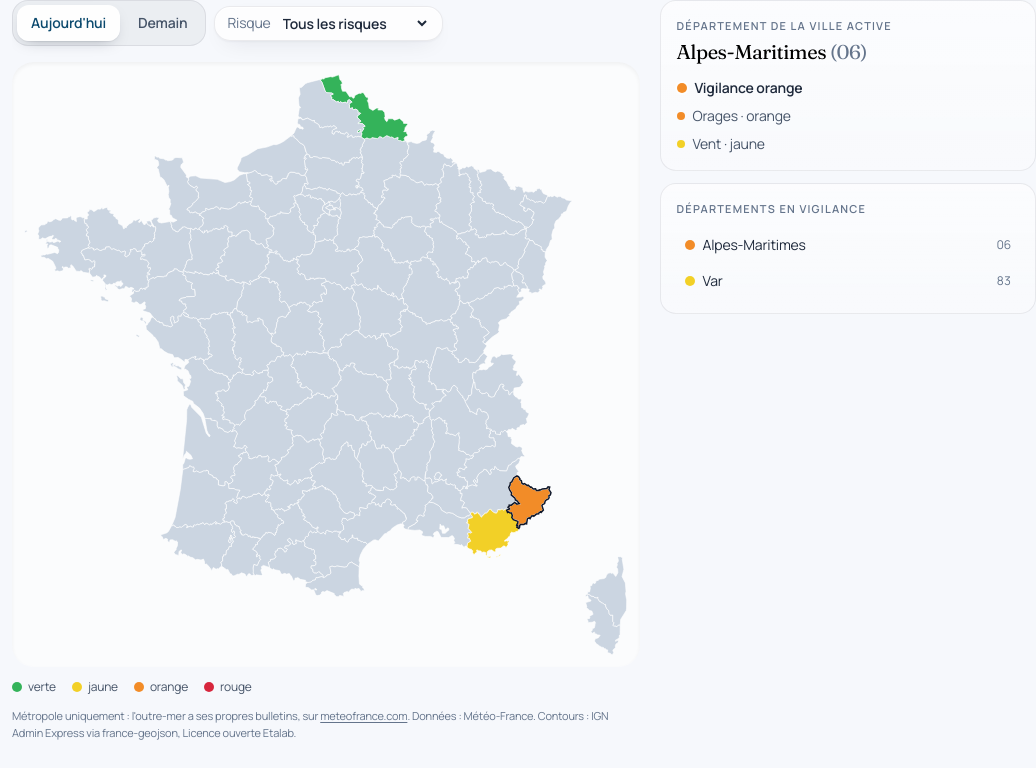
Test case: VigilanceMap › filtre par risque et change d'échéance
Select "Vent •" in the dropdown at point(354, 23), box [279, 12, 430, 34]
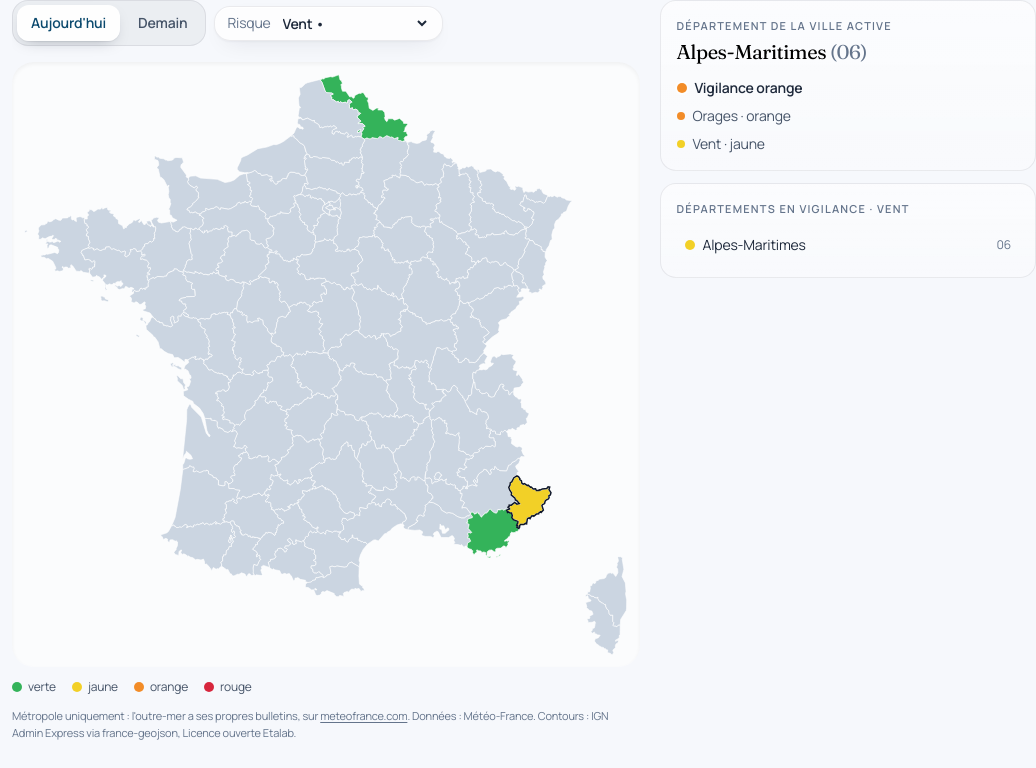
Expected: the buttons read "Alpes-Maritimes06", in this order, [676, 229, 1019, 261]
Click the tab "Demain" at point(163, 23), box [124, 5, 201, 41]
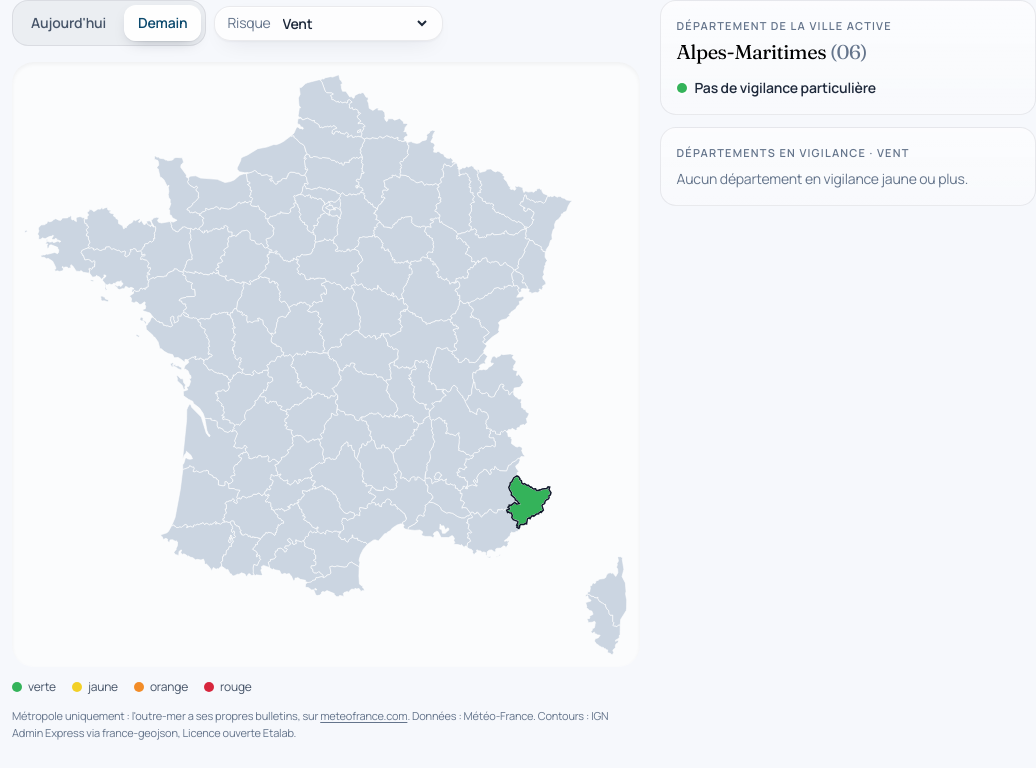
Expected: the text "Aucun département en vigilance jaune ou plus." is shown, [676, 169, 1019, 189]
